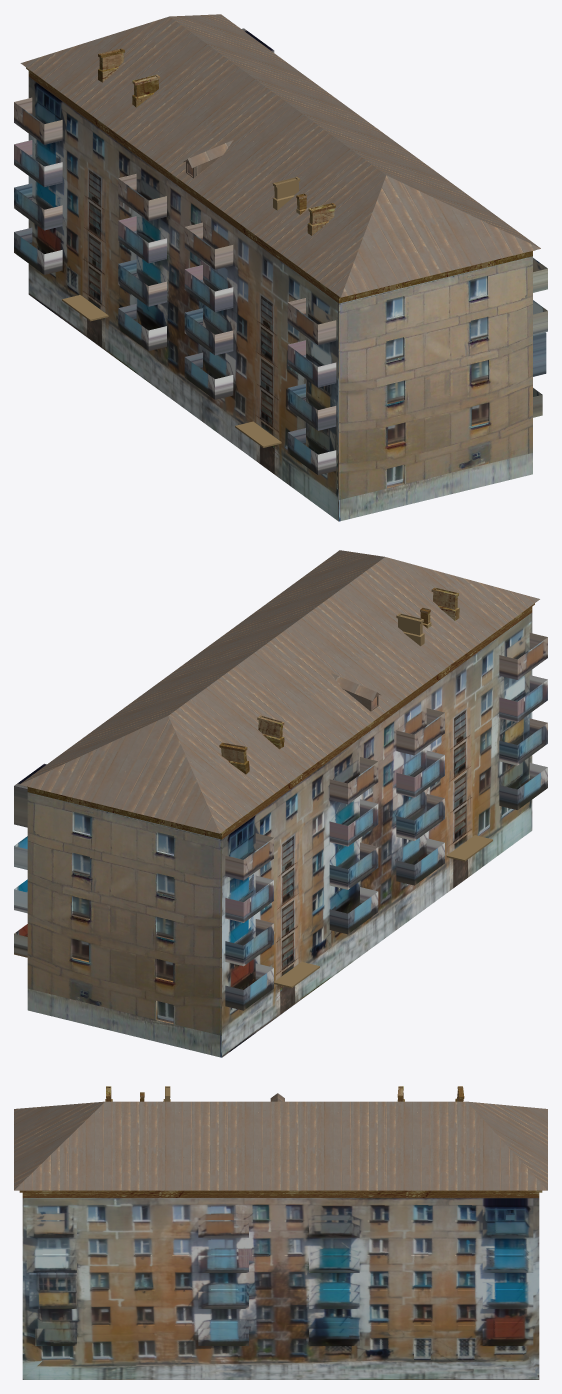
Rendered from khrushchevka.glb.
3 renders of one model, top to bottom at view 1: azimuth 30°, elevation 25°; view 2: azimuth 150°, elevation 25°; view 3: azimuth 270°, elevation 25°, orthographic. The views are drawn at different scales.
Visible parts, largest first — view 1: Cube.003; view 2: Cube.003; view 3: Cube.003.
Part boxes in pixels (<box>): Cube.003: <box>14,14,547,521</box>; Cube.003: <box>14,550,547,1057</box>; Cube.003: <box>14,1086,547,1379</box>.
Bounding box in the file's own units: 5.5 × 6.55 × 13.28.
Materials: 5 (5 with a texture image).
